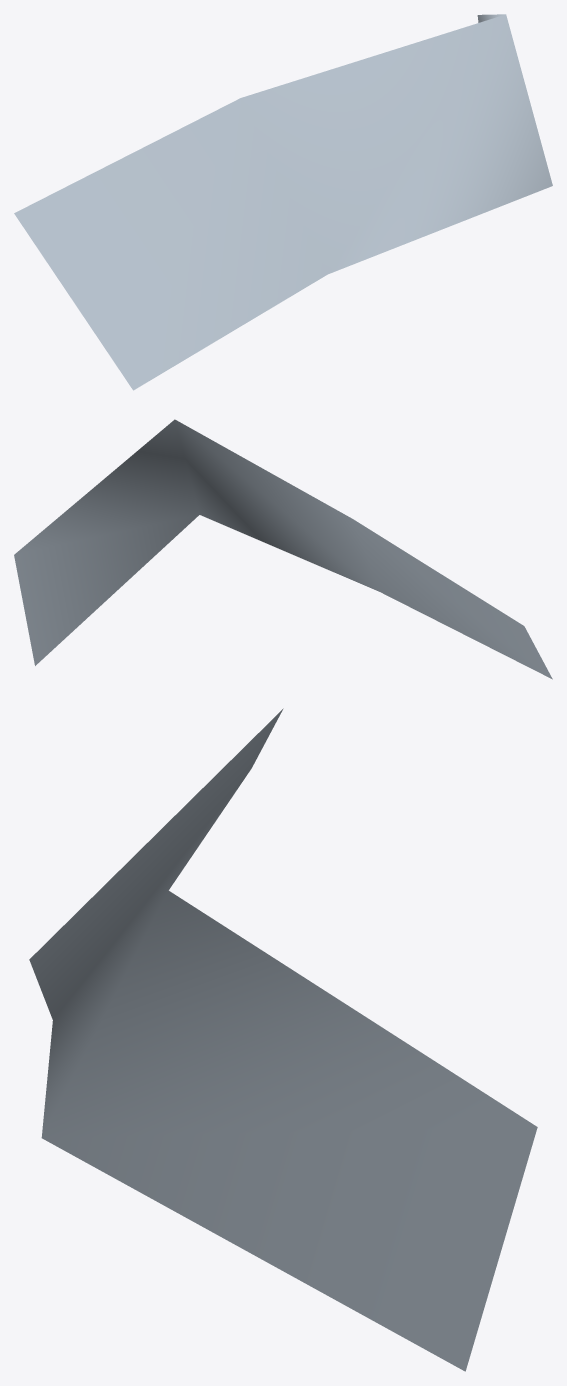
Rendered from palmar-radio-ulnar-ligament-r.glb.
The picture shows the model from 3 angles, top to bottom: view 1: azimuth 30°, elevation 25°; view 2: azimuth 150°, elevation 25°; view 3: azimuth 270°, elevation 25°; orthographic projection. The views are drawn at different scales.
Parts seen in each view (by area): view 1: Palmar radio-ulnar ligament.r; view 2: Palmar radio-ulnar ligament.r; view 3: Palmar radio-ulnar ligament.r.
Part boxes in pixels (x1,y1,x2,y2): Palmar radio-ulnar ligament.r: (14,14,552,390); Palmar radio-ulnar ligament.r: (14,419,552,679); Palmar radio-ulnar ligament.r: (29,708,537,1371).
Size of the model in its own units: 0.0185 by 0.00826 by 0.00912.
